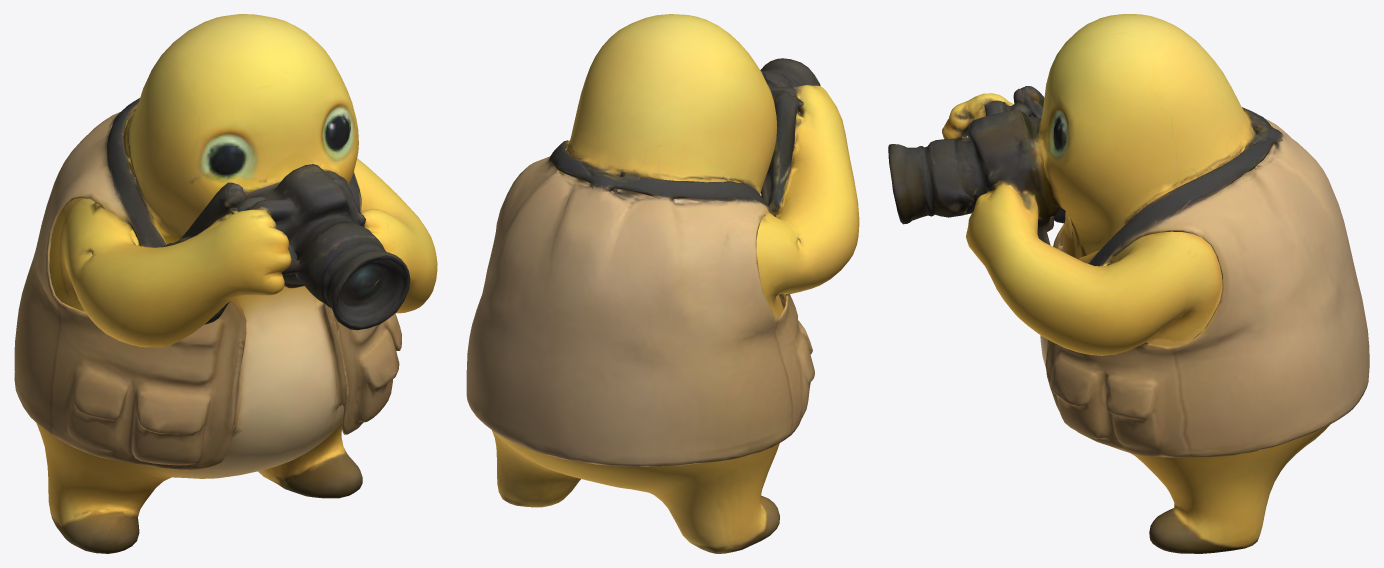
Rendered from photographer.glb.
The picture shows the model from 3 angles, left to right: view 1: azimuth 30°, elevation 25°; view 2: azimuth 150°, elevation 25°; view 3: azimuth 270°, elevation 25°; orthographic projection. The views are drawn at different scales.
Visible parts, largest first — view 1: geometry_0; view 2: geometry_0; view 3: geometry_0.
Part boxes in pixels (x1,y1,x2,y2): geometry_0: (14, 14, 437, 553); geometry_0: (466, 14, 859, 553); geometry_0: (888, 14, 1369, 553).
Bounding box in the file's own units: 0.1037 × 0.1497 × 0.1386.
Materials: 1 (1 with a texture image).
